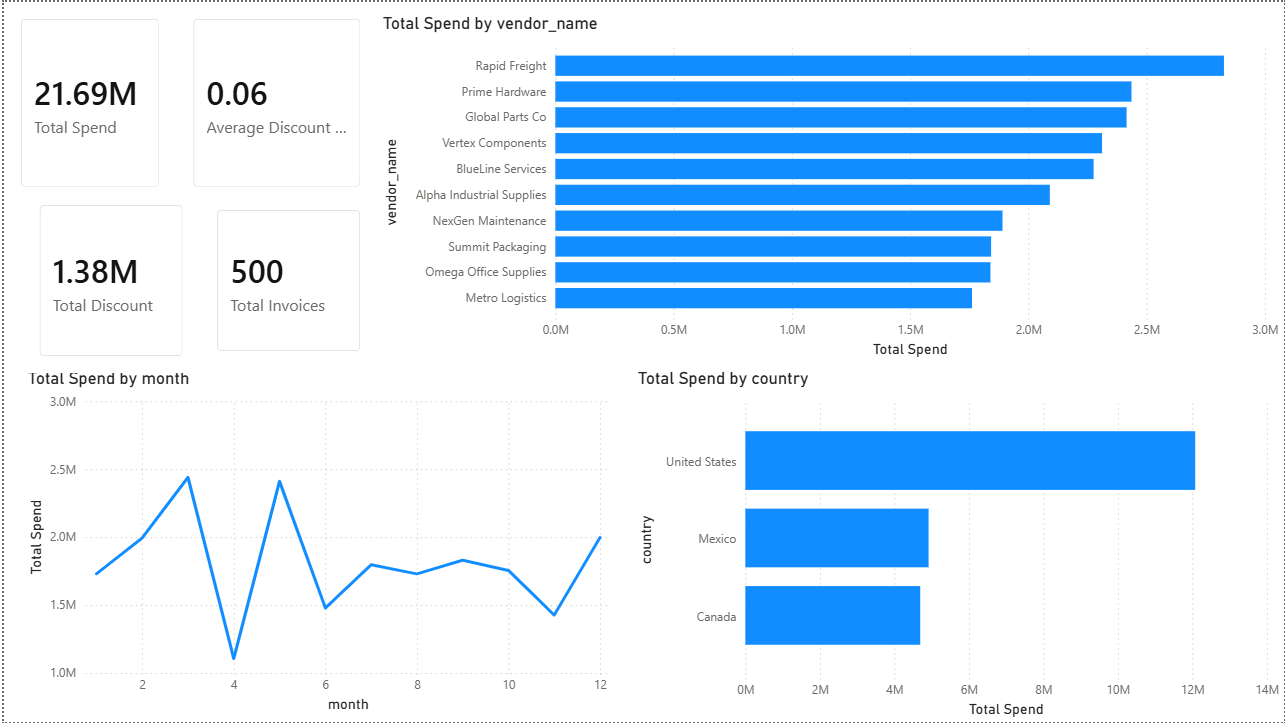

This screenshot's page, from the dashboard's own definition file:
{"tool":"powerbi","page":{"name":"Executive Overview","canvas":[1280,720],"ordinal":0},"visuals":[{"type":"clusteredColumnChart","fields":{"Y":["cleaned_procurement_transactions.Total Invoices"]},"box":[5.7,232.9,347.1,204.3],"z":0},{"type":"clusteredColumnChart","fields":{"Y":["cleaned_procurement_transactions.Average Discount Rate"]},"box":[5.7,437.1,347.1,282.9],"z":1000},{"type":"clusteredColumnChart","fields":{"Y":["cleaned_procurement_transactions.Total Spend"]},"box":[0,0,352.9,207.1],"z":3000},{"type":"lineChart","fields":{"Category":["cleaned_procurement_transactions.month_name"],"Y":["cleaned_procurement_transactions.Total Spend"]},"box":[352.9,317.1,485.7,402.9],"z":4000},{"type":"clusteredBarChart","fields":{"Category":["cleaned_procurement_transactions.vendor_name"],"Y":["cleaned_procurement_transactions.Total Spend"]},"box":[364.3,0,915.7,295.7],"z":5000},{"type":"clusteredBarChart","fields":{"Category":["cleaned_procurement_transactions.country"],"Y":["cleaned_procurement_transactions.Total Spend"]},"box":[838.6,272.9,441.4,447.1],"z":6000}]}

Visuals, with their boxes in screenshot pixels (x1, y1, x2, y2), scaled from the page's 1280x720 canvas onto the 1285x723 screenshot:
clusteredColumnChart - cleaned_procurement_transactions.Total Invoices: 6 234 354 439
clusteredColumnChart - cleaned_procurement_transactions.Average Discount Rate: 6 439 354 722
clusteredColumnChart - cleaned_procurement_transactions.Total Spend: 0 0 354 208
lineChart - cleaned_procurement_transactions.month_name x cleaned_procurement_transactions.Total Spend: 354 318 842 722
clusteredBarChart - cleaned_procurement_transactions.vendor_name x cleaned_procurement_transactions.Total Spend: 366 0 1284 297
clusteredBarChart - cleaned_procurement_transactions.country x cleaned_procurement_transactions.Total Spend: 842 274 1284 722
